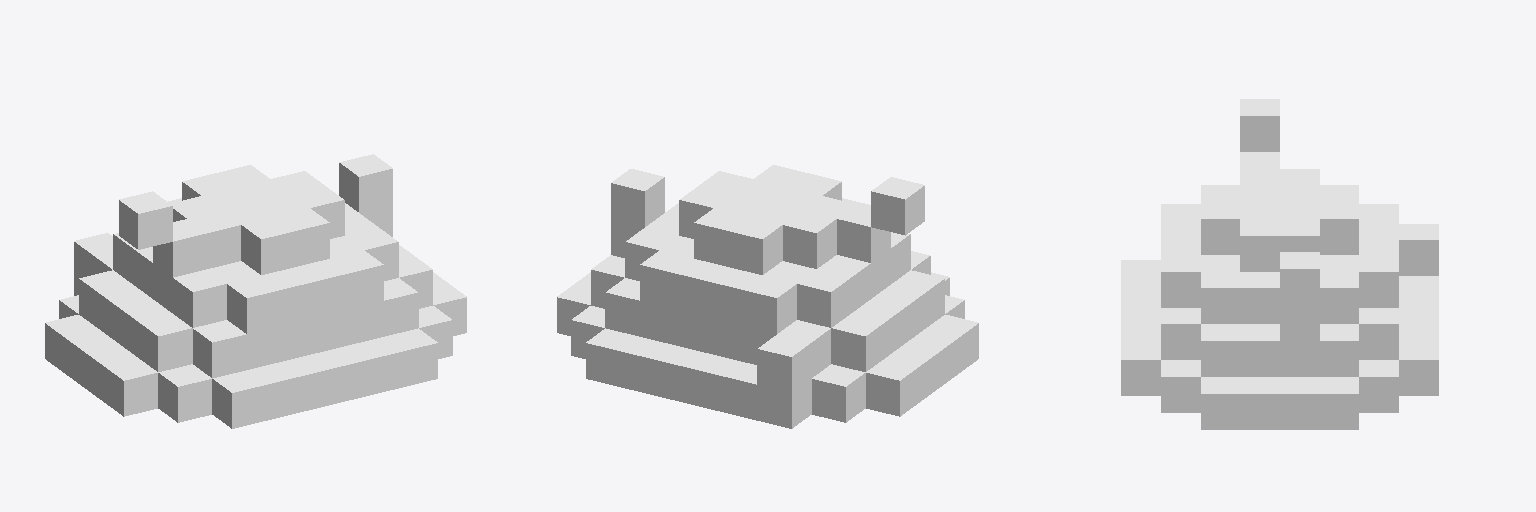
The model's file is cubeland1-22.obj.
3 views of the same model, side by side, from view 1: azimuth 30°, elevation 25°; view 2: azimuth 150°, elevation 25°; view 3: azimuth 270°, elevation 25° (orthographic).
Visible parts, largest first — view 1: object 1; view 2: object 1; view 3: object 1.
Part boxes in pixels (x1,y1,x2,y2): object 1: (45, 154, 466, 428); object 1: (557, 165, 978, 428); object 1: (1121, 99, 1438, 429).
Bounding box in the file's own units: 1 × 0.5 × 0.8.